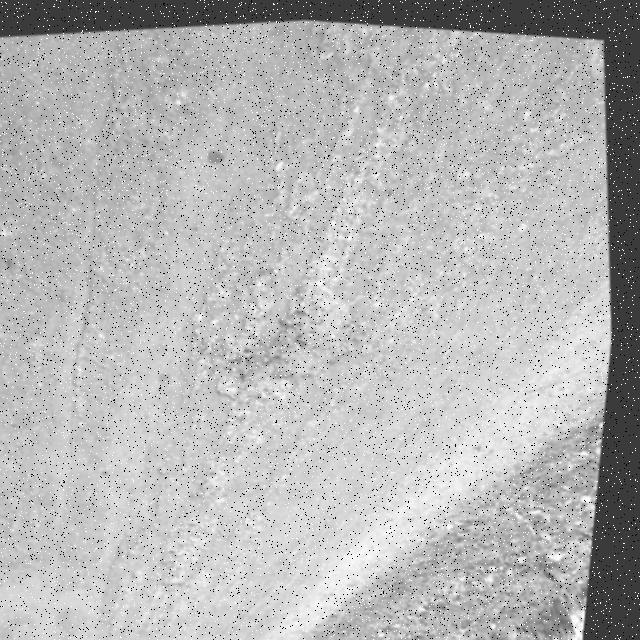pothole: (206, 260, 382, 416)
